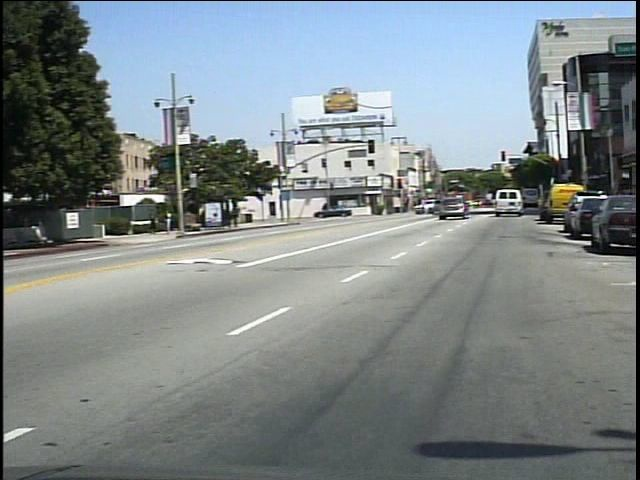person: (325, 196, 341, 224), (170, 206, 185, 235), (155, 211, 169, 238)
